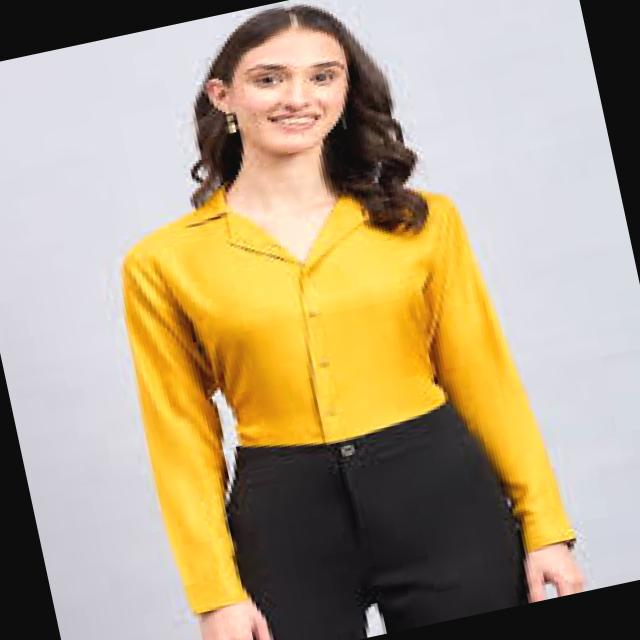face: (190, 0, 372, 168)
lower-wear: (187, 391, 541, 640)
top-wear: (87, 130, 574, 628)
